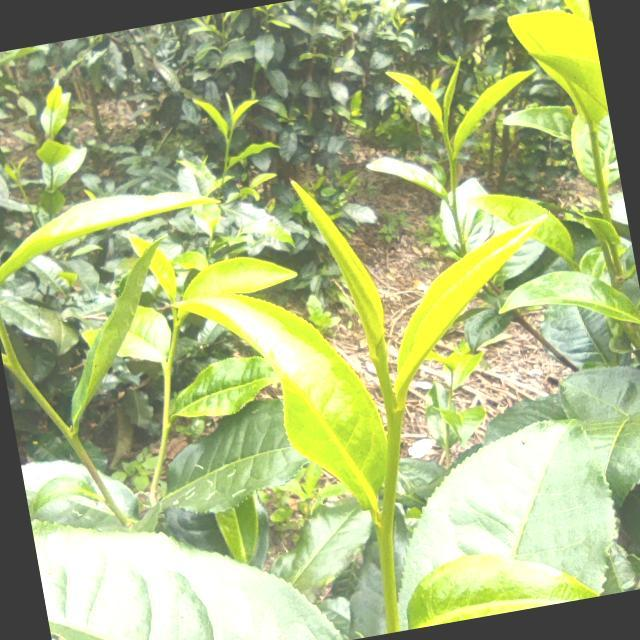Stem: (387, 404, 402, 425), (173, 321, 181, 331), (442, 129, 447, 135), (227, 139, 230, 144)
